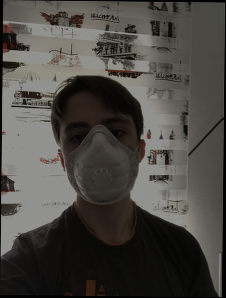with_mask: (61, 106, 140, 206)
